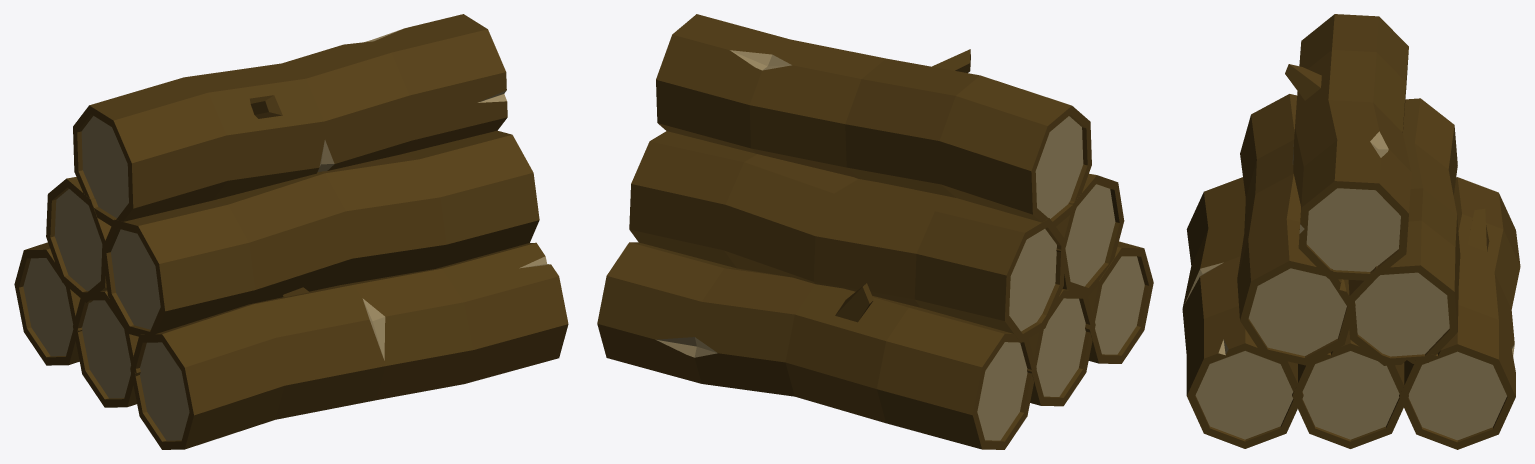
File: Log_Bundle.fbx
The picture shows the model from 3 angles, left to right: view 1: azimuth 30°, elevation 25°; view 2: azimuth 150°, elevation 25°; view 3: azimuth 270°, elevation 25°; orthographic projection. The views are drawn at different scales.
Parts seen in each view (by area): view 1: Log_Bundle; view 2: Log_Bundle; view 3: Log_Bundle.
Part boxes in pixels (box(x1,y1,x2,y2)): Log_Bundle: box(14, 14, 568, 449); Log_Bundle: box(597, 14, 1153, 449); Log_Bundle: box(1182, 14, 1520, 449).
Size of the model in its own units: 81.54 by 63.22 by 69.66.
